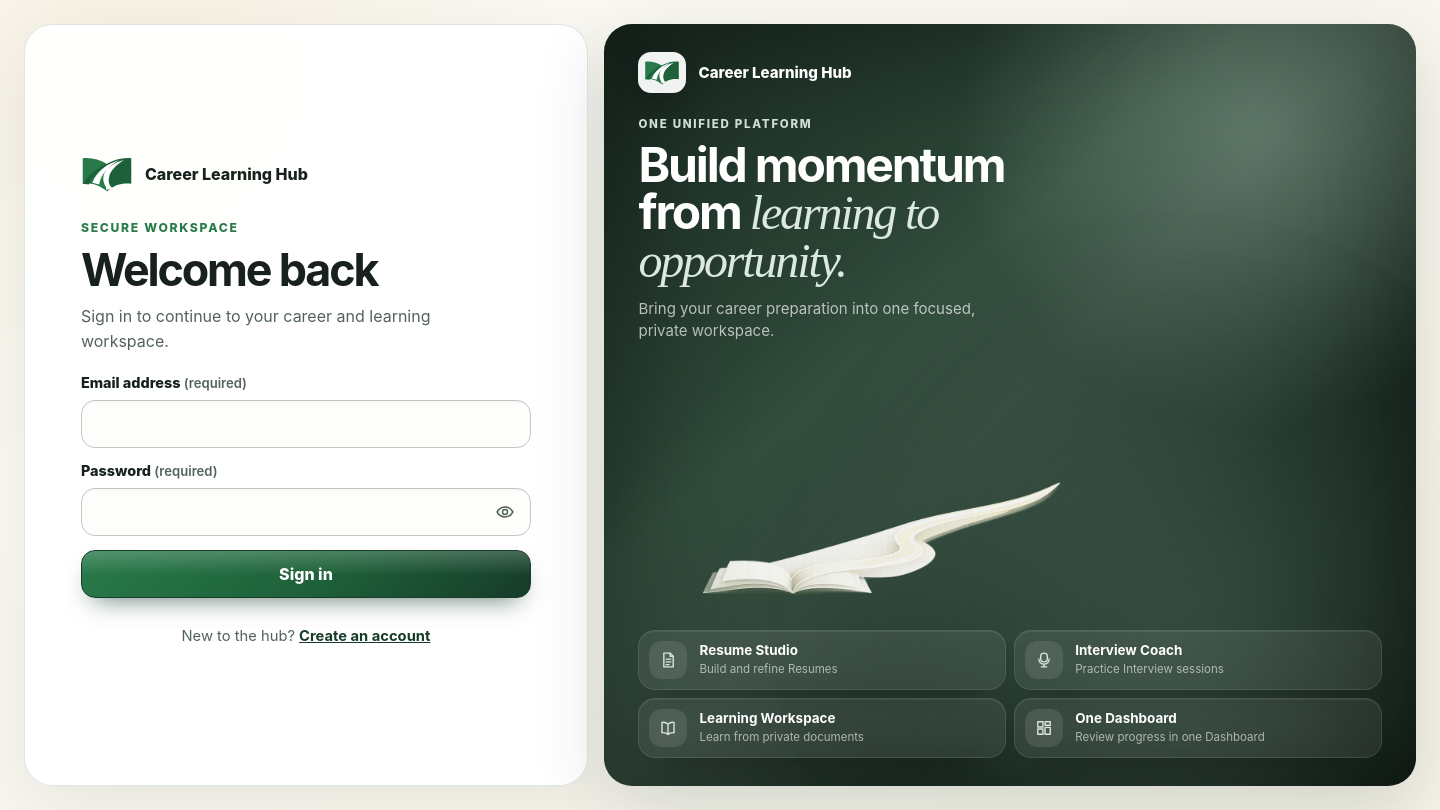
Test: authentication forms and shell interaction › disables duplicate login submissions while a request is busy
Expected: the heading "Welcome back" is shown, [81, 243, 377, 297]
Type "router@example.test" into the field labelled "Email address" at (306,424), box [81, 400, 531, 448]
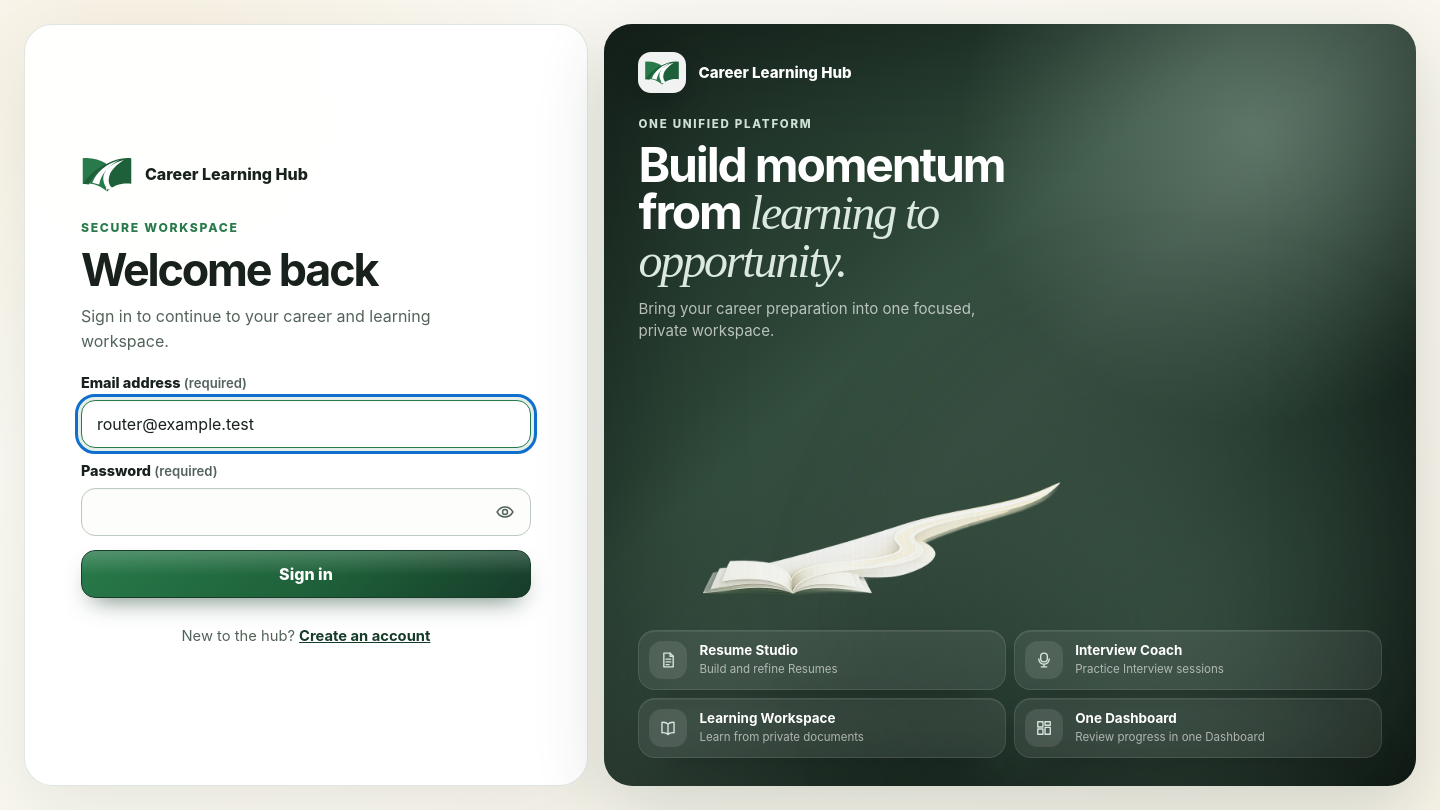
Type "SyntheticPassword1" into the password field labelled "Password" at (306,512), box [81, 488, 531, 536]
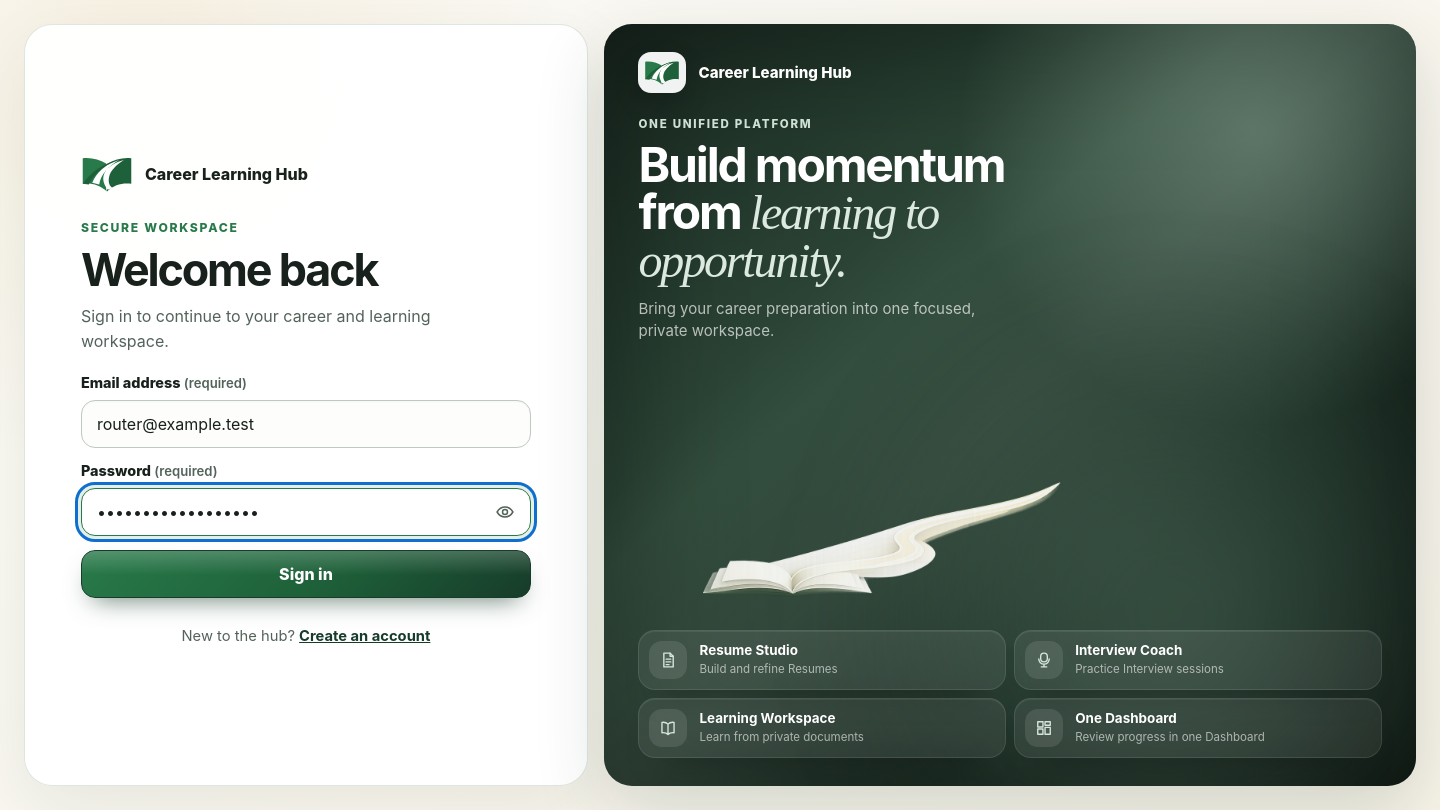
Click the button "Sign in" at (306,574), box [81, 550, 531, 598]
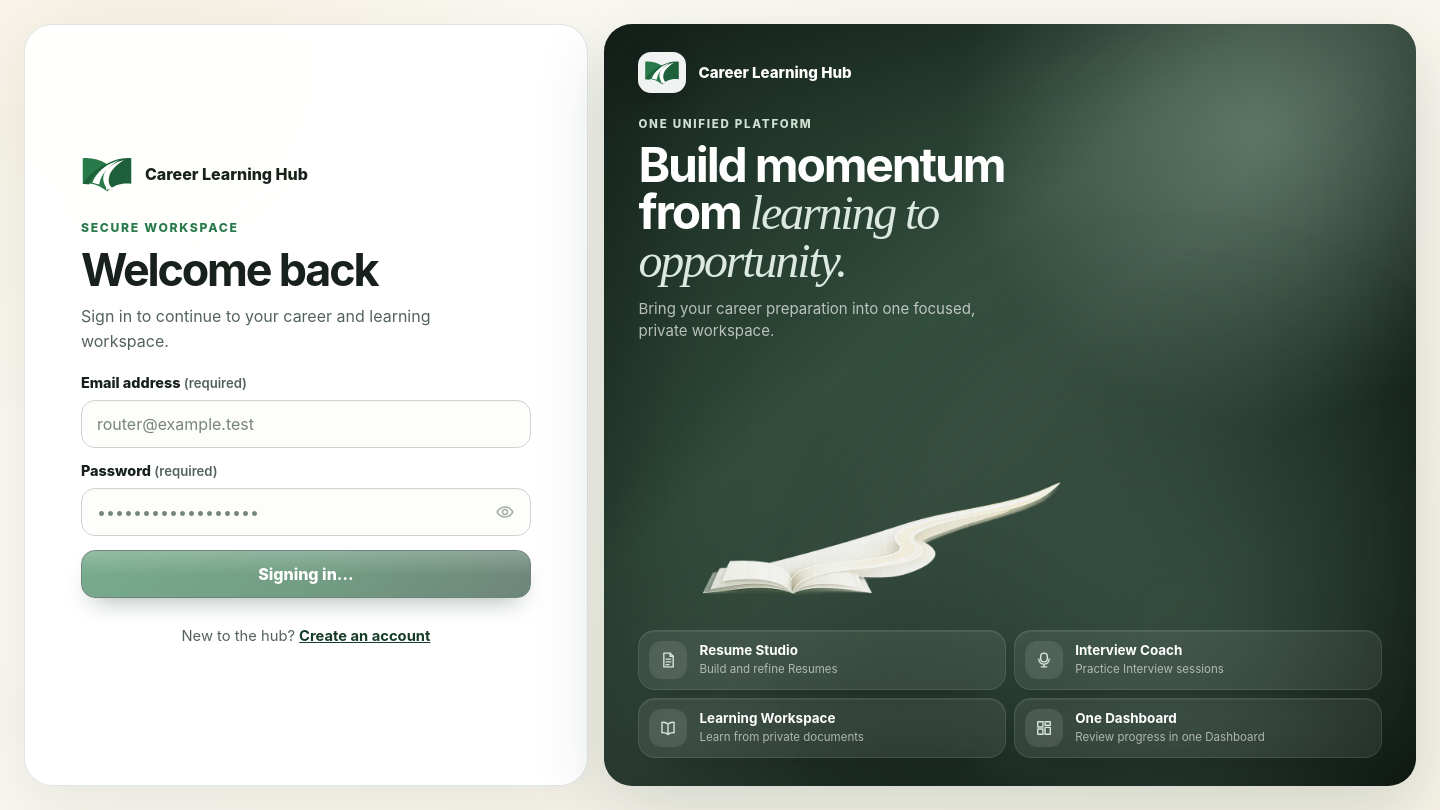
Expected: the button named "Sign in" is disabled, [81, 550, 531, 598]
